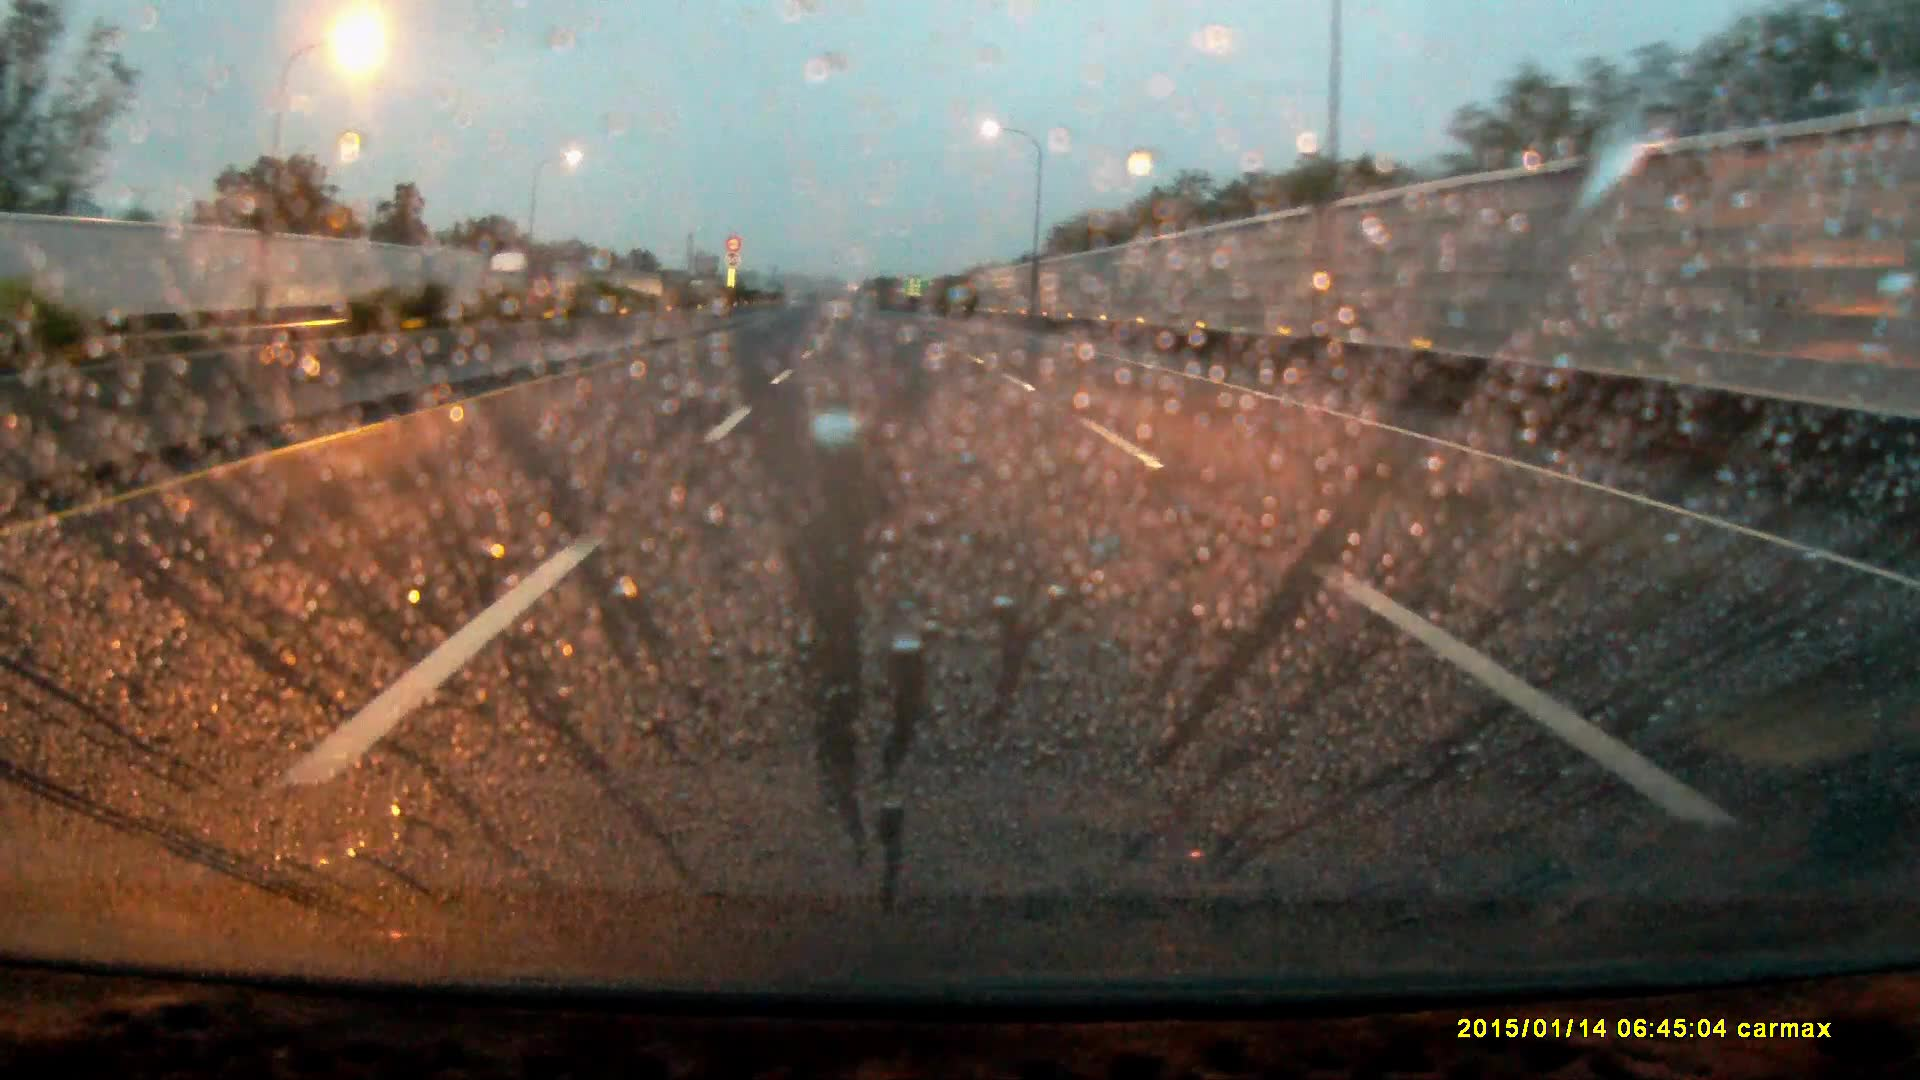vehicle: (485, 252, 554, 313)
